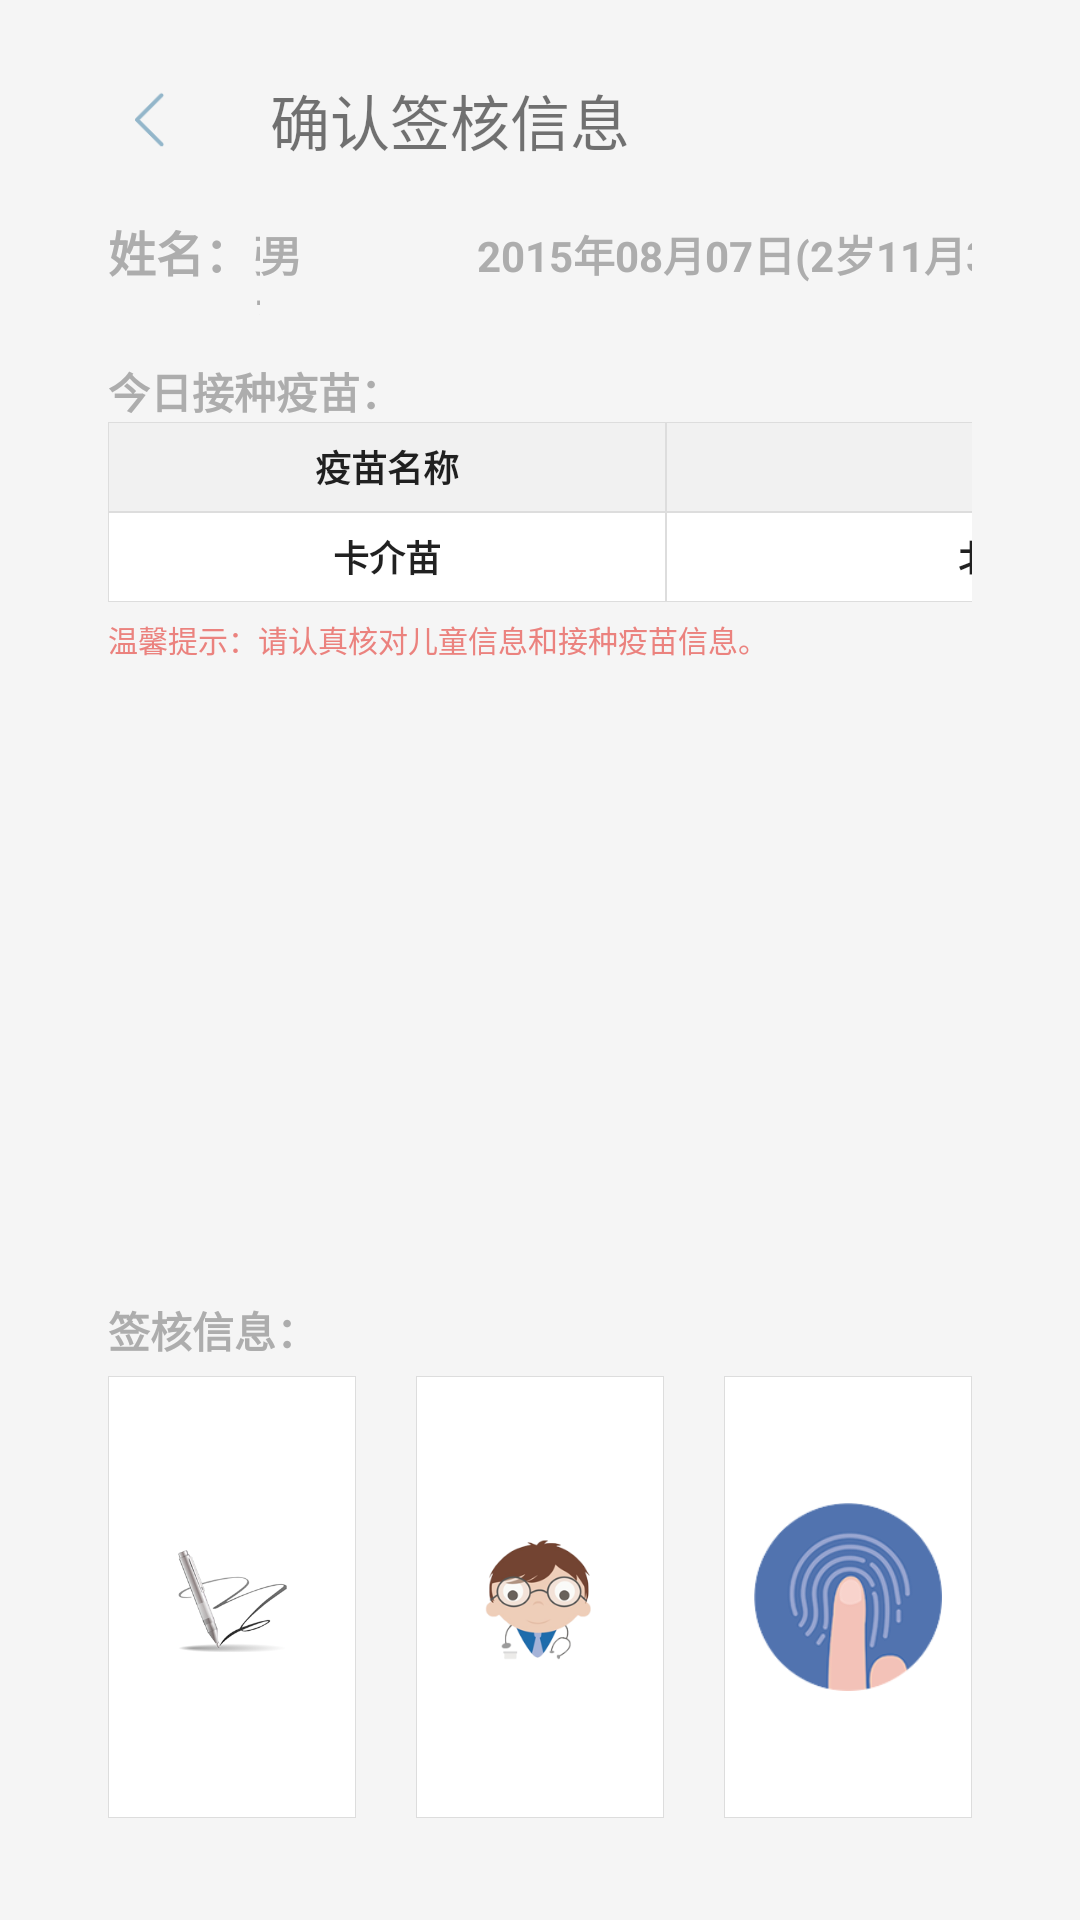

Icons on this 1080x1920 Android screen, each with the point to tap as (x=x, y=y):
back: (x=149, y=119)
finger: (x=848, y=1597)
